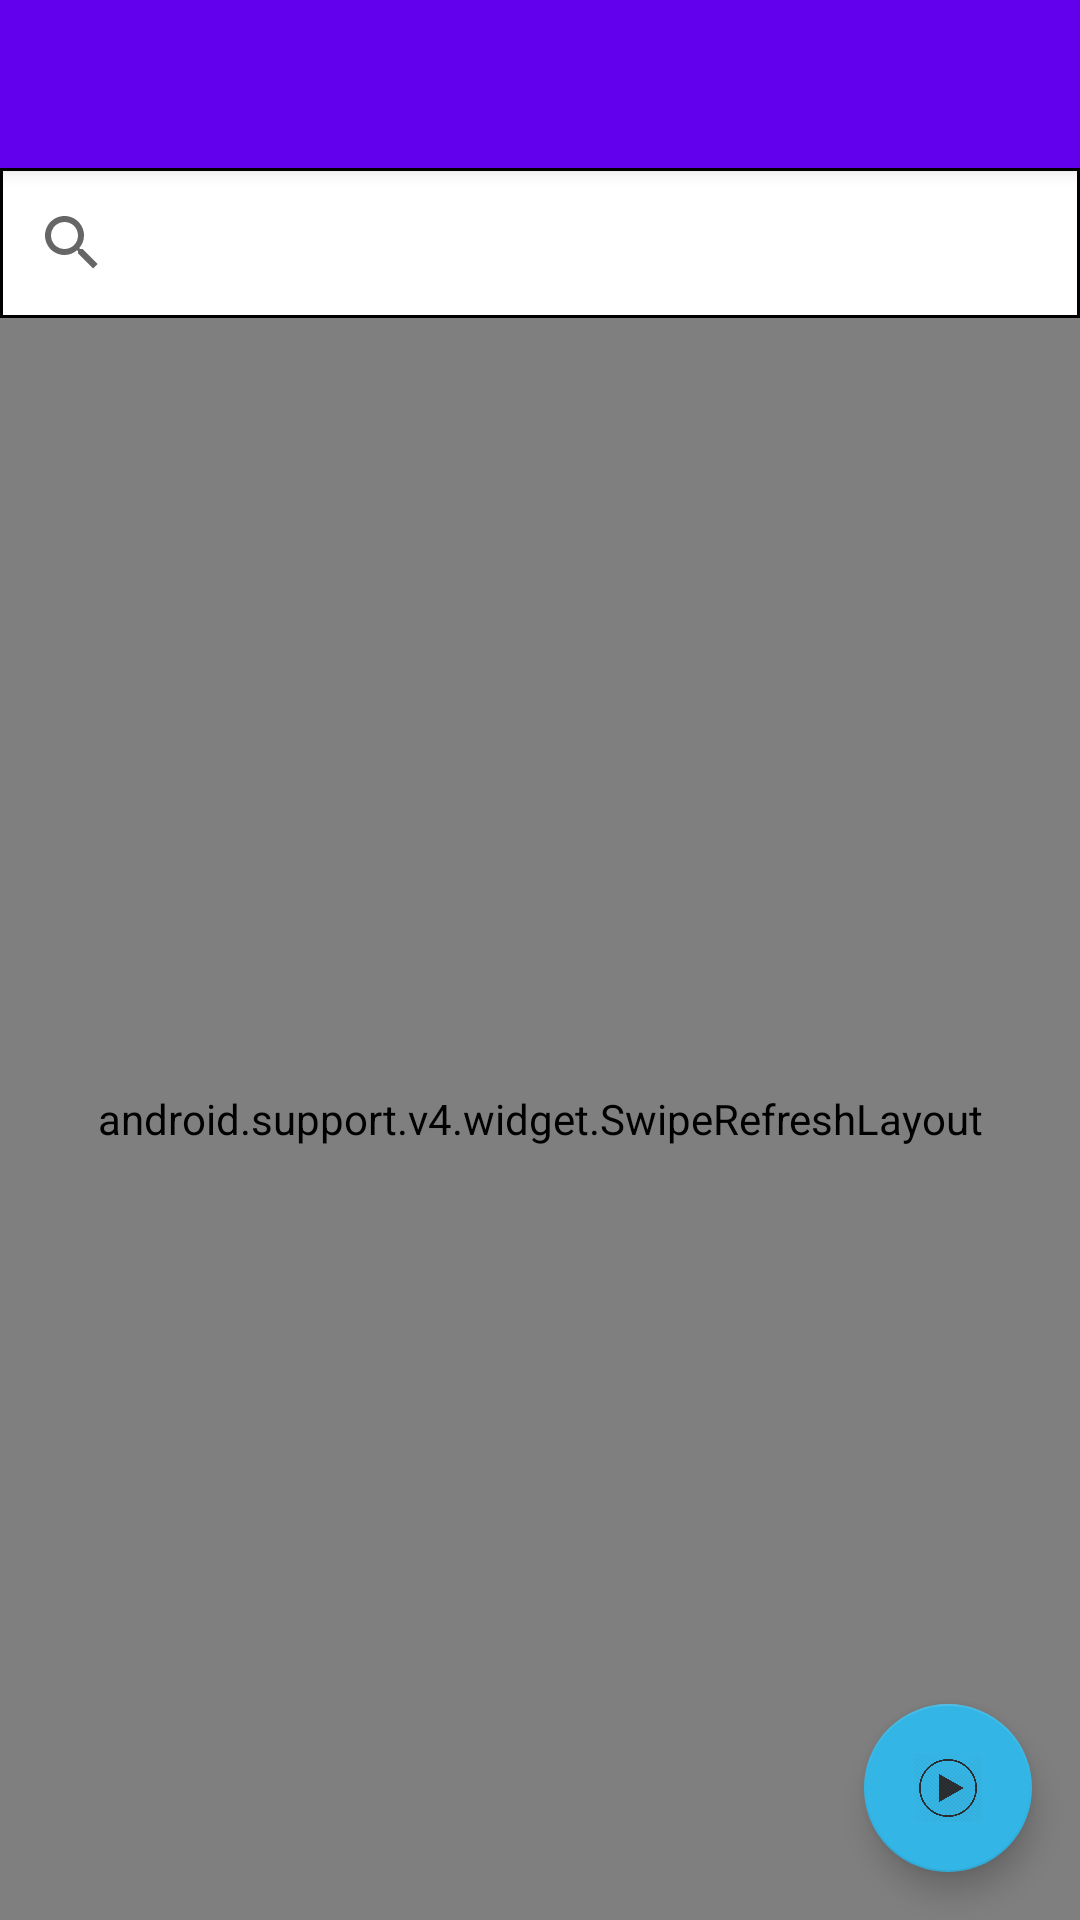

Icons on this 1080x1920 Android screen, each with its box as (x1, y1, x2, y2):
play: (864, 1704, 1032, 1872)
